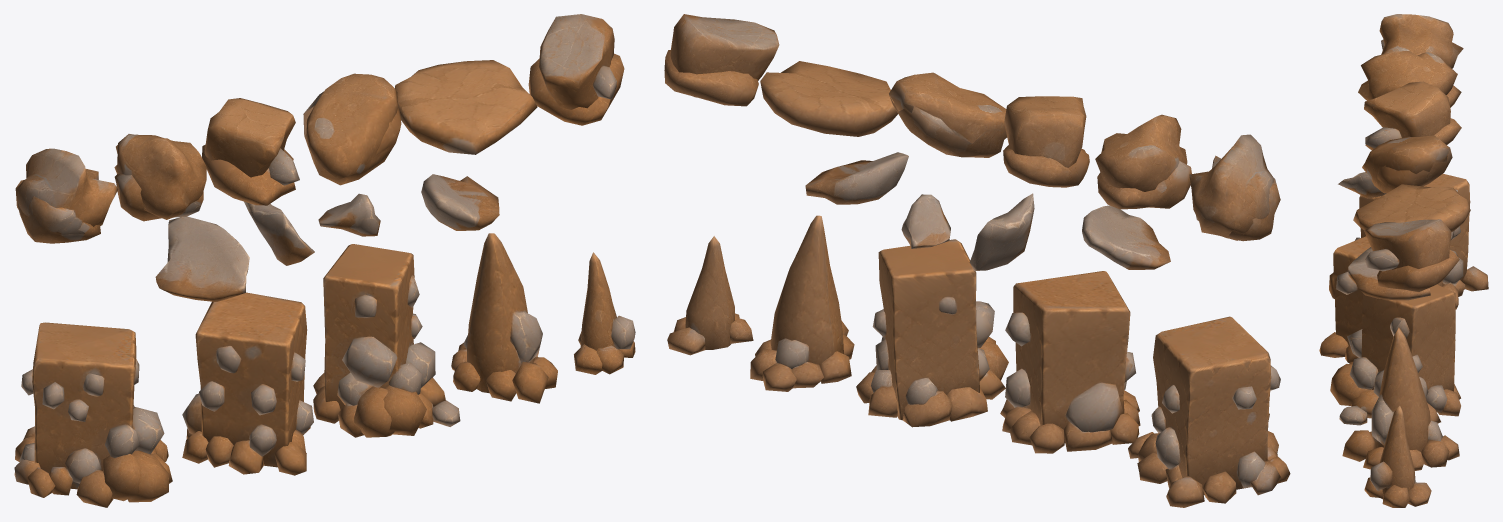
The model's file is elem_tierra.glb.
3 renders of one model, left to right at view 1: azimuth 30°, elevation 25°; view 2: azimuth 150°, elevation 25°; view 3: azimuth 270°, elevation 25°, orthographic. The views are drawn at different scales.
Size of the model in its own units: 1 by 0.5284 by 0.2964.
Materials: 1 (1 with a texture image).
